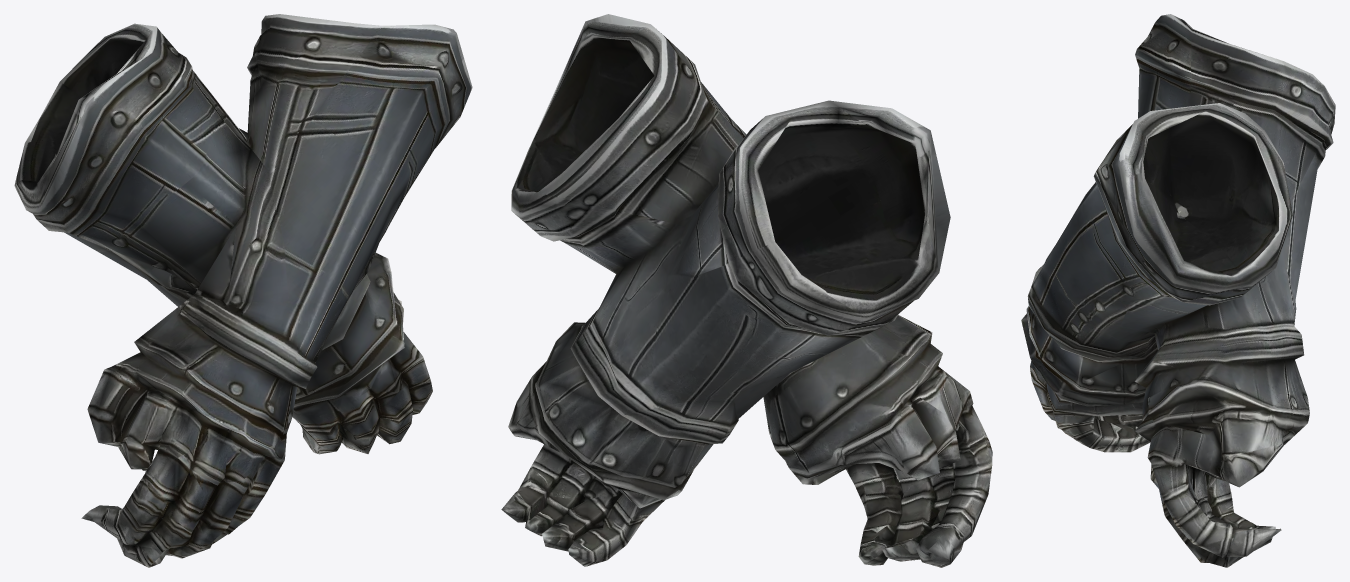
The model's file is Iron_Gauntlets_Armor.glb.
The picture shows the model from 3 angles, left to right: view 1: azimuth 30°, elevation 25°; view 2: azimuth 150°, elevation 25°; view 3: azimuth 270°, elevation 25°; orthographic projection. The views are drawn at different scales.
Size of the model in its own units: 1.72 by 1.9 by 1.26.
1 material, 1 textured.
